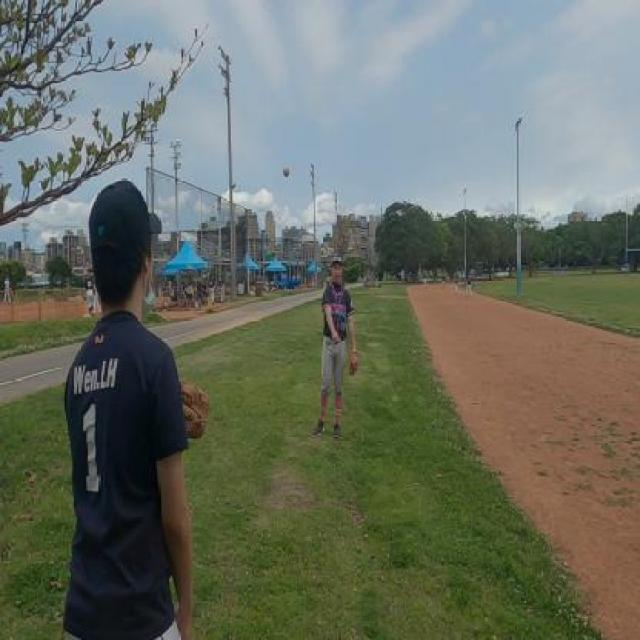baseball: (282, 165, 290, 178)
